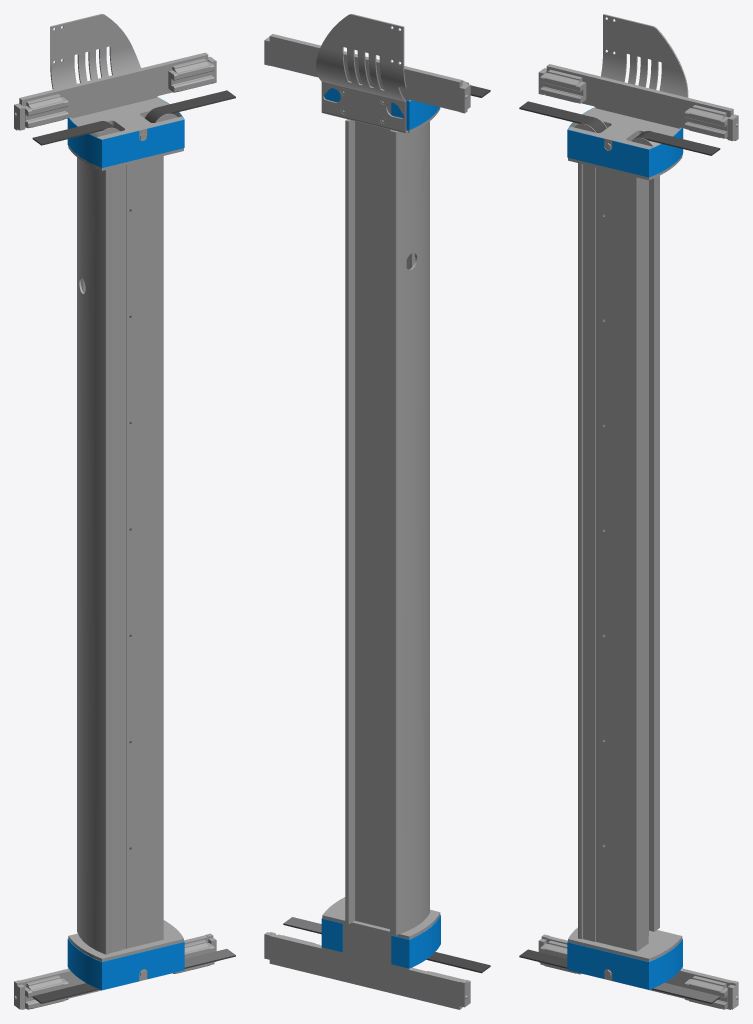
3 renders of one model, left to right at view 1: azimuth 30°, elevation 25°; view 2: azimuth 150°, elevation 25°; view 3: azimuth 330°, elevation 25°, orthographic. The views are drawn at different scales.
Visible parts, largest first — view 1: y.IGS (×4); view 2: y.IGS (×3); view 3: y.IGS (×4).
Boxes of the visible parts, left/top/right/bottom form: y.IGS (×4): left=14, top=14, right=235, bottom=1009; y.IGS (×3): left=264, top=14, right=490, bottom=1009; y.IGS (×4): left=519, top=14, right=738, bottom=1009.
Size of the model in its own units: 0.3909 by 1.81 by 0.1531.
